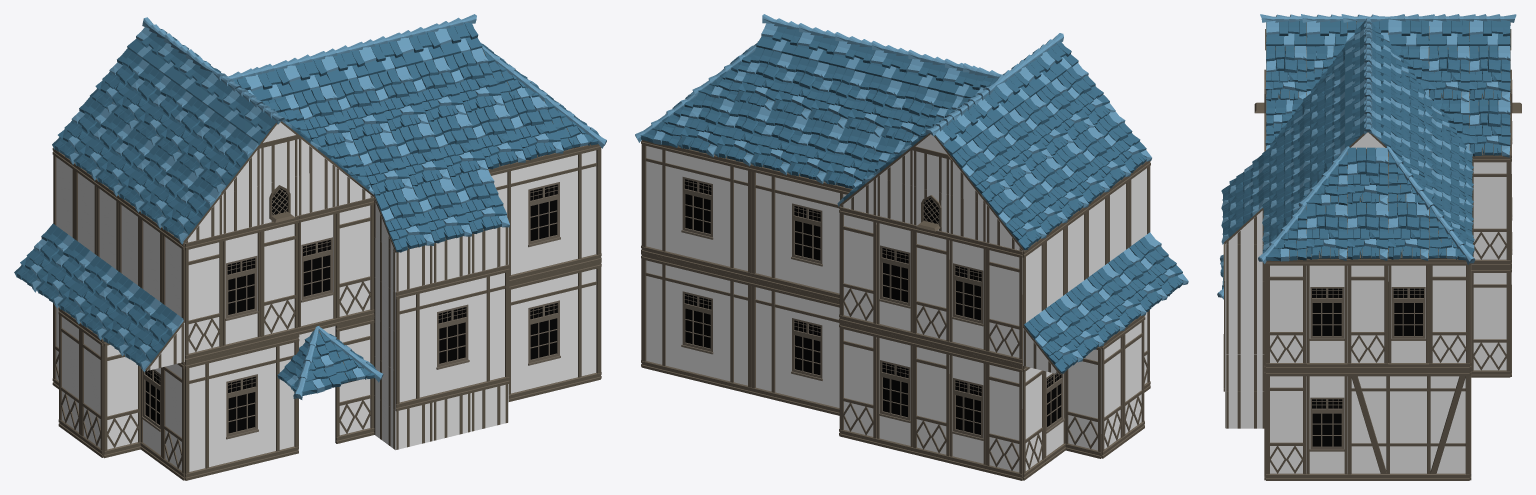
File: House_19_parts.fbx
3 renders of one model, left to right at view 1: azimuth 30°, elevation 25°; view 2: azimuth 150°, elevation 25°; view 3: azimuth 270°, elevation 25°, orthographic. The views are drawn at different scales.
Visible parts, largest first — view 1: WINDOW_03_9, WINDOW_03_2, WINDOW_03_8, WINDOW_03_7, WALL_01_22, WALL_01_23, WINDOW_04_13, WALL_01_21, WINDOW_04_12, WALL_01_4, WALL_01_2, WALL_01_5 (+78 smaller); view 2: WINDOW_03_4, WINDOW_03_5, WINDOW_03_6, WINDOW_03_3, WALL_01_14, WALL_01_12, WALL_01_9, WALL_01_11, WALL_01_10, WALL_01_13, WINDOW_04_8, WINDOW_04_7 (+66 smaller); view 3: WALL_02_2, WALL_01_18, WINDOW_04_9, WINDOW_04_10, WALL_01_19, WINDOW_04_11, WALL_01_20, WALL_01_17, WALL_01_15, WALL_01_16, ROOF_base_52, ROOF_base_54 (+61 smaller).
Boxes of the visible parts, x1,y1,x2,y2 form: WINDOW_03_9: (395,264,509,411); WINDOW_03_2: (185,335,299,480); WINDOW_03_8: (488,144,601,283); WINDOW_03_7: (508,261,601,401); WALL_01_22: (260,216,298,343); WALL_01_23: (185,234,223,362); WINDOW_04_13: (223,225,261,352); WALL_01_21: (336,197,374,325); WINDOW_04_12: (298,206,336,334); WALL_01_4: (103,341,140,458); WALL_01_2: (335,316,374,443); WALL_01_5: (80,323,103,457); WINDOW_03_4: (641,253,751,394); WINDOW_03_5: (641,140,751,279); WINDOW_03_6: (751,164,852,301); WINDOW_03_3: (751,280,839,415); WALL_01_14: (985,242,1022,366); WALL_01_12: (839,206,876,330); WALL_01_9: (985,357,1022,480); WALL_01_11: (839,322,876,445); WALL_01_10: (912,340,949,462); WALL_01_13: (912,224,949,348); WINDOW_04_8: (949,233,985,357); WINDOW_04_7: (876,215,912,339); WALL_02_2: (1347,370,1469,480); WALL_01_18: (1347,259,1388,370); WINDOW_04_9: (1307,259,1347,370); WINDOW_04_10: (1388,259,1428,370); WALL_01_19: (1429,259,1469,370); WINDOW_04_11: (1307,370,1347,480); WALL_01_20: (1266,370,1306,480); WALL_01_17: (1266,259,1306,370); WALL_01_15: (1471,267,1510,377); WALL_01_16: (1471,155,1510,266); ROOF_base_52: (1347,202,1388,260); ROOF_base_54: (1347,147,1388,204).
Bounding box in the file's own units: 1231 × 865 × 749.
